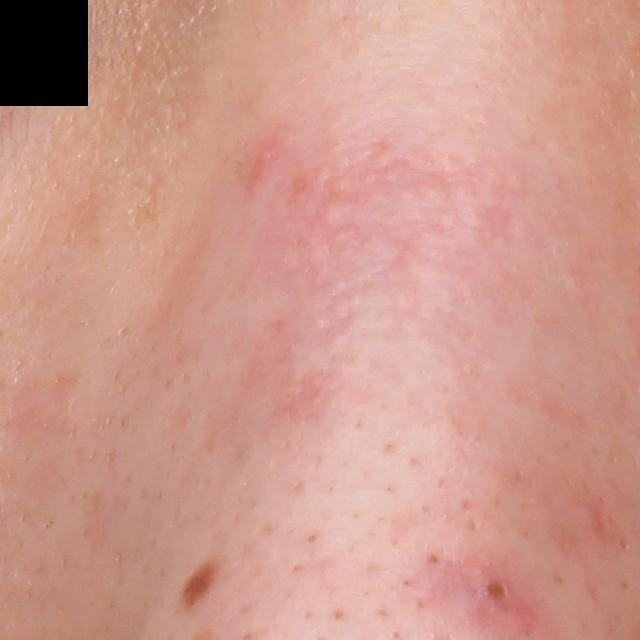nevus: (178, 555, 221, 611)
